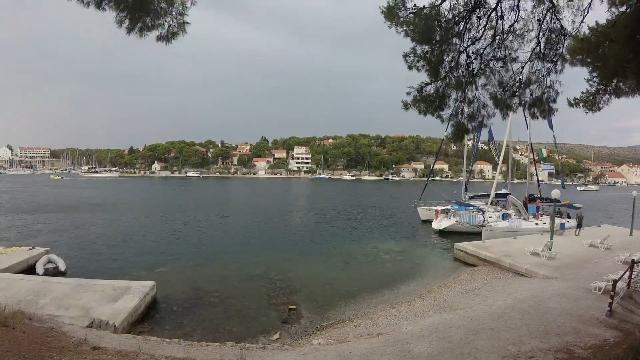speedboat: (44, 172, 68, 182)
